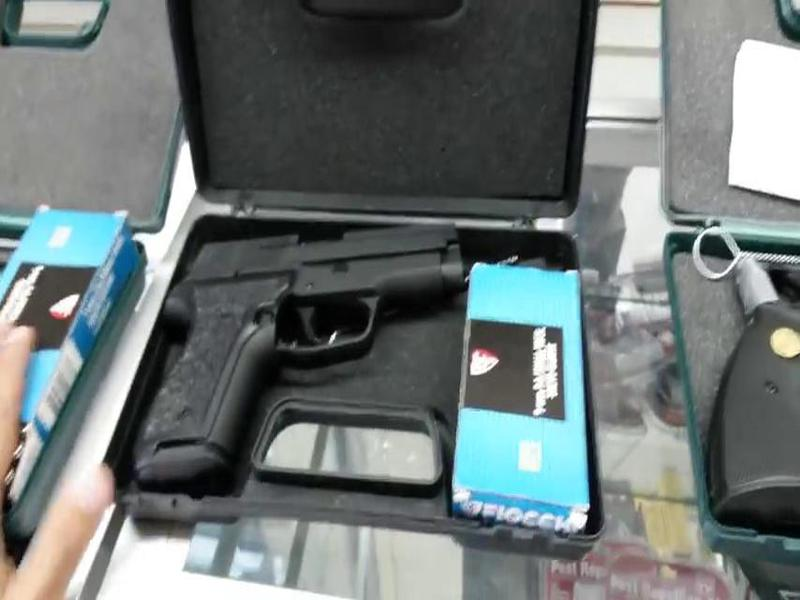Pistola: (129, 210, 512, 494)
